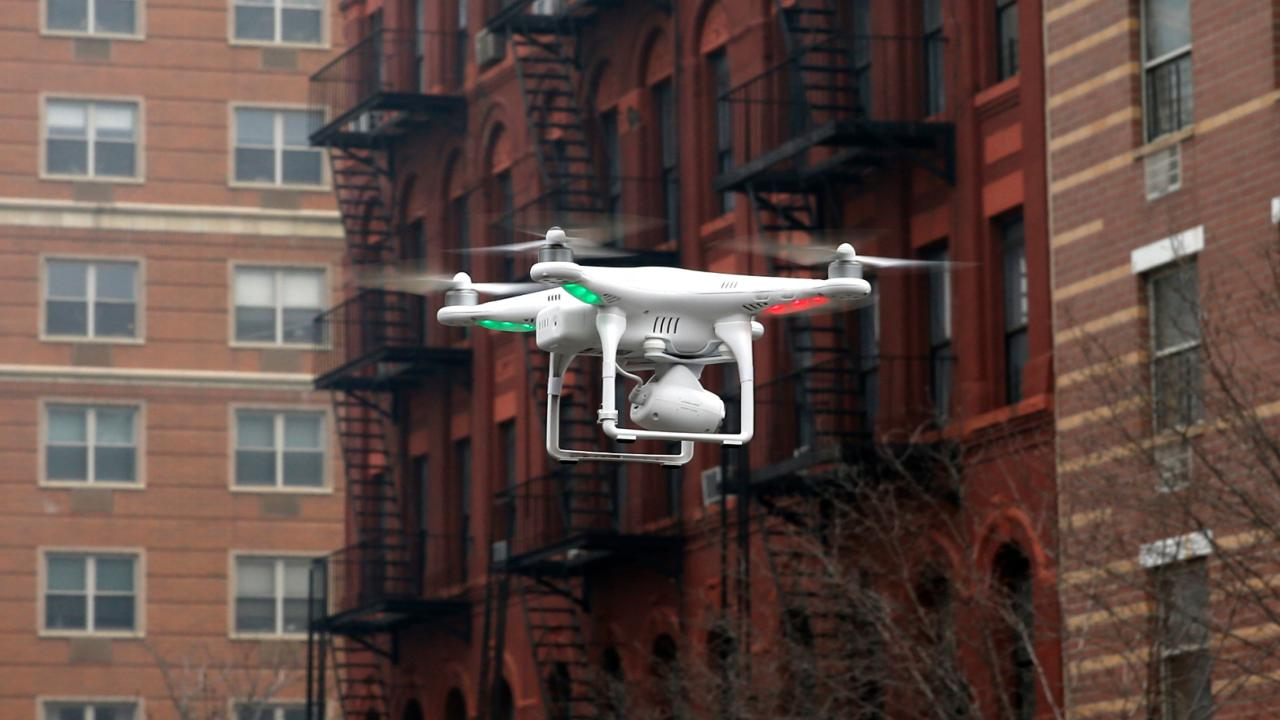Drone: (320, 195, 988, 481)
